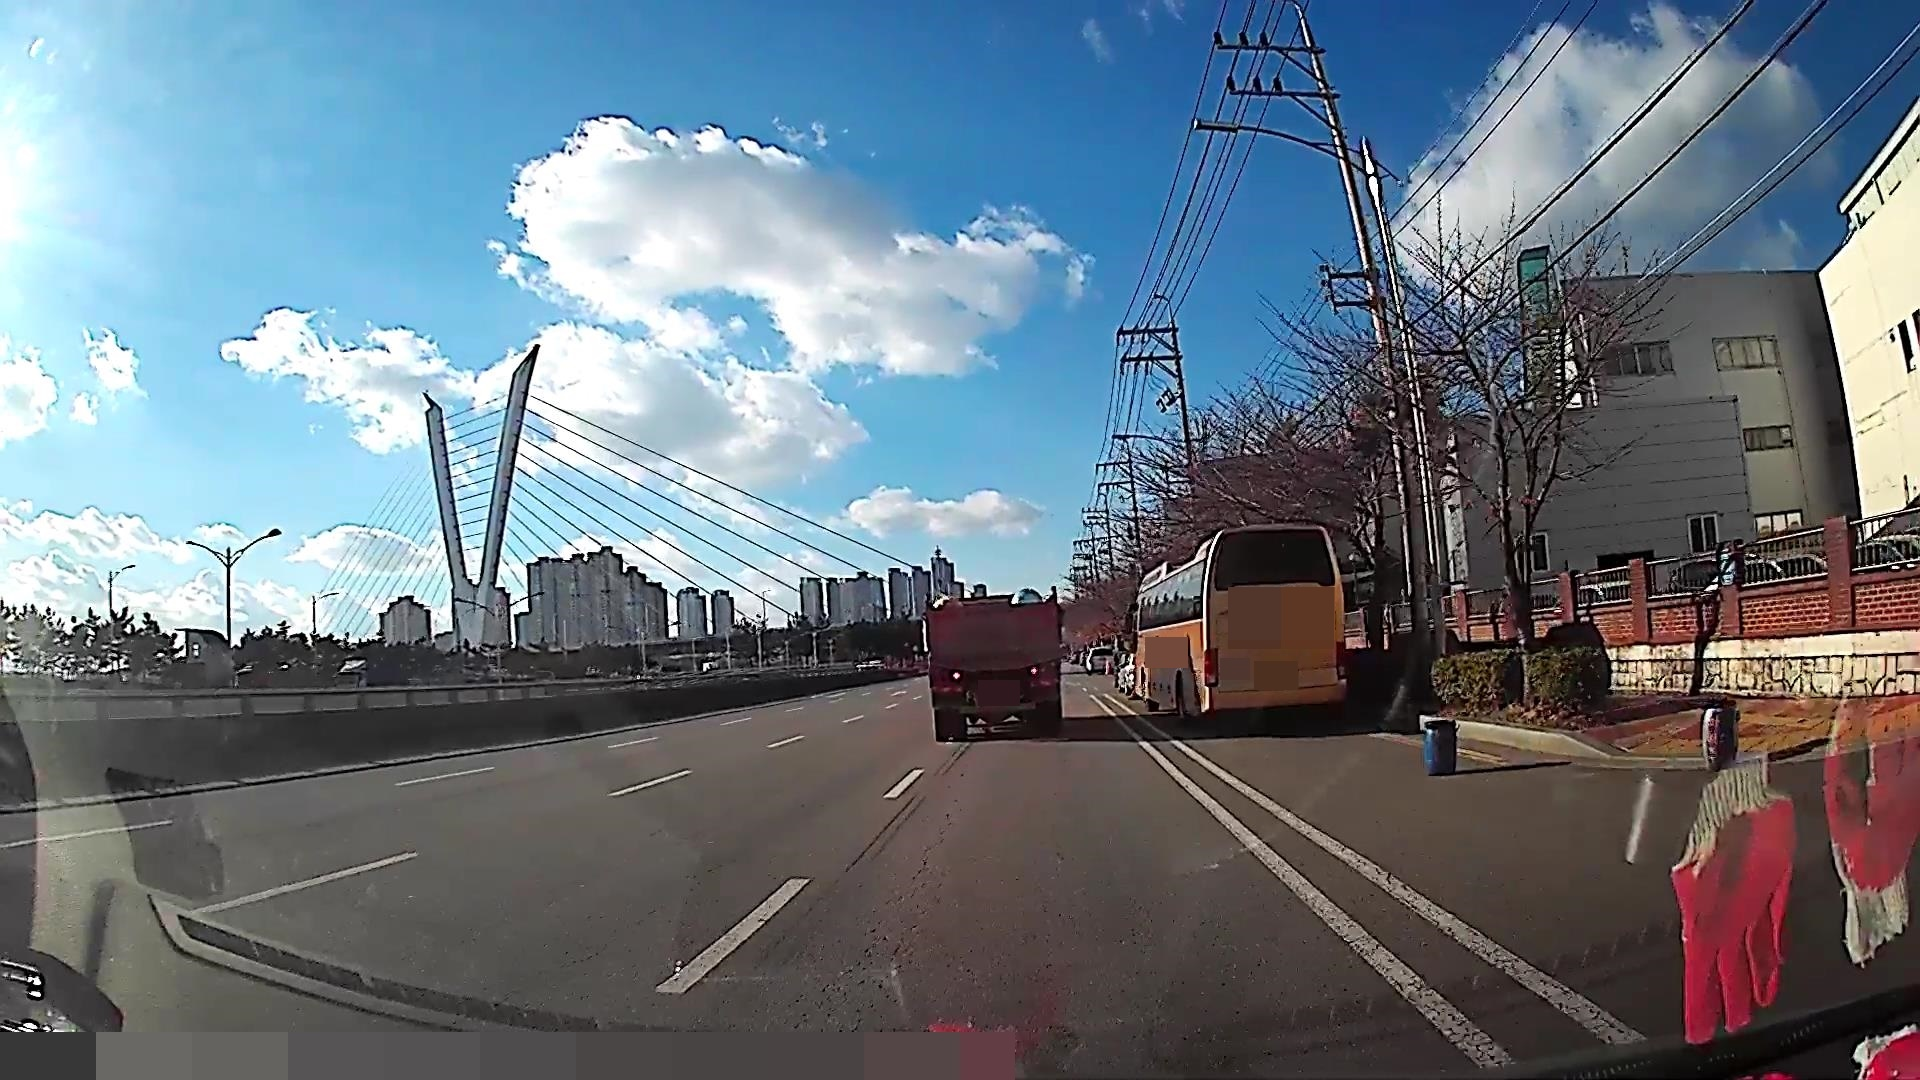불법차량: (920, 578, 1067, 741)
